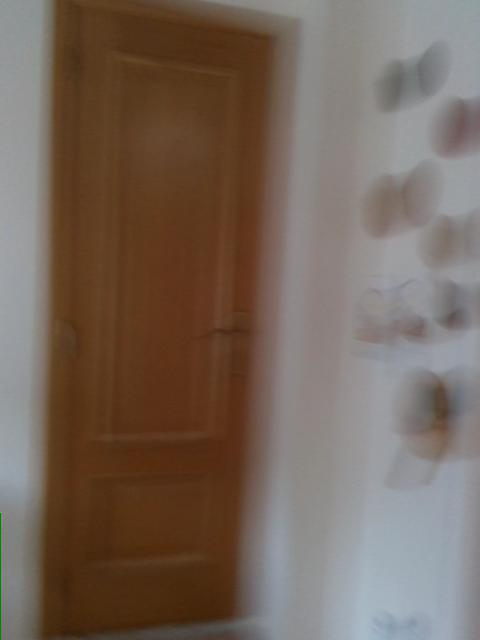door: (69, 13, 275, 628)
